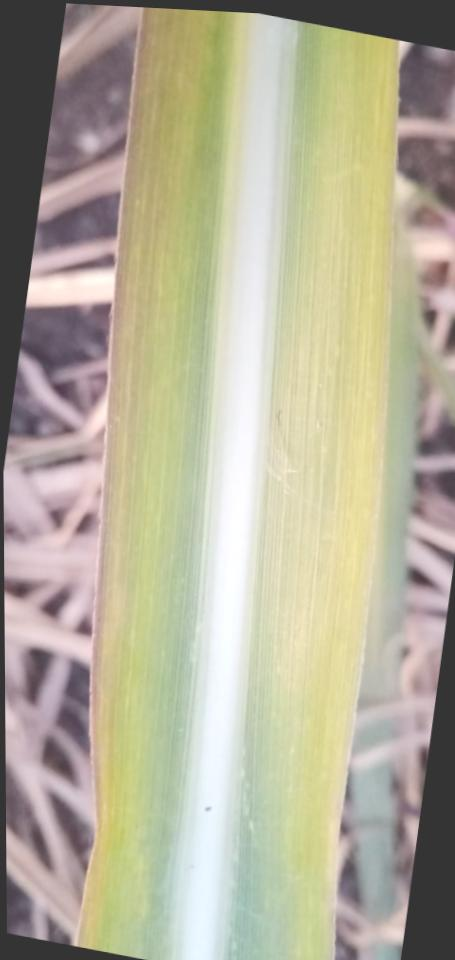Yellow: (73, 7, 170, 948)
